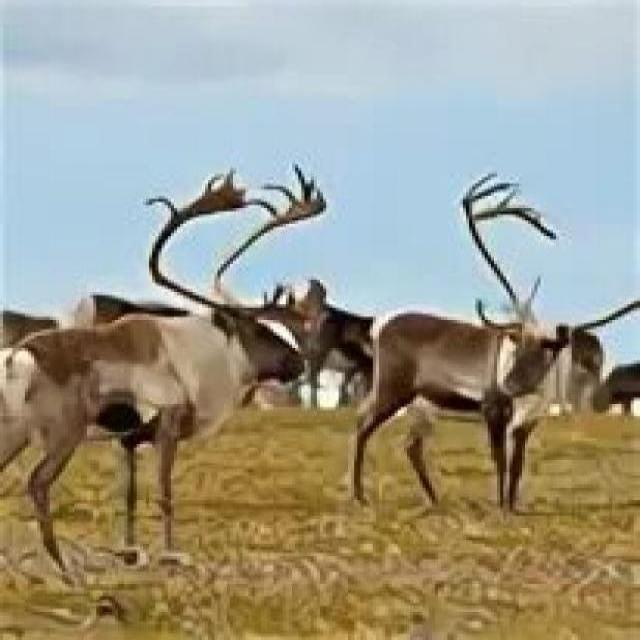deer: (0, 213, 379, 550), (364, 252, 595, 496)
